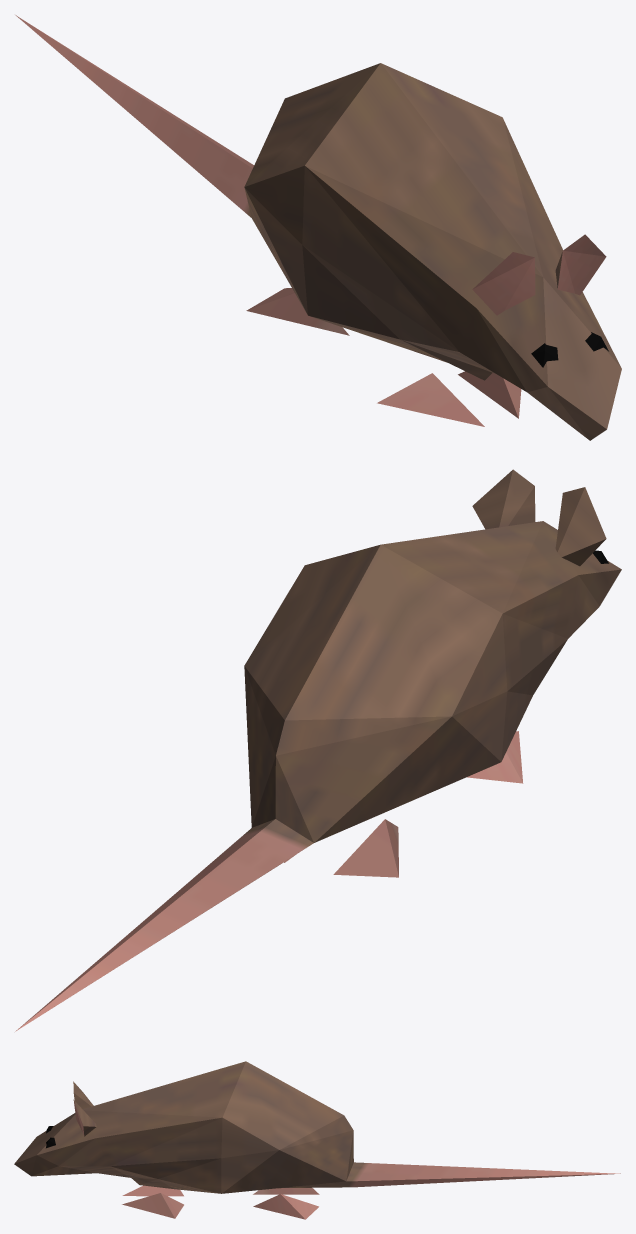
File: rat.glb
The picture shows the model from 3 angles, top to bottom: view 1: azimuth 30°, elevation 25°; view 2: azimuth 150°, elevation 25°; view 3: azimuth 270°, elevation 25°; orthographic projection. The views are drawn at different scales.
Parts seen in each view (by area): view 1: rat; view 2: rat; view 3: rat.
Part boxes in pixels (x1,y1,x2,y2): rat: (15, 15, 621, 440); rat: (15, 469, 621, 1031); rat: (14, 1061, 620, 1219).
Bounding box in the file's own units: 0.3664 × 0.4581 × 1.81.
1 material, 1 textured.
